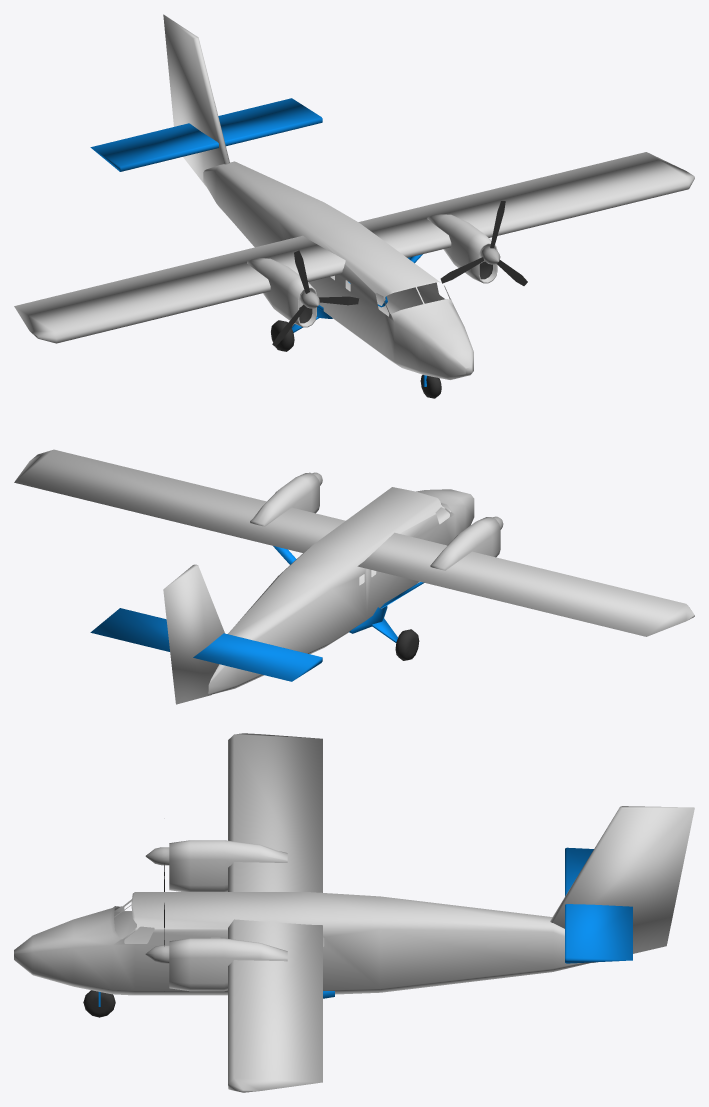
The model's file is twin-prop.glb.
3 views of the same model, one above another, from view 1: azimuth 30°, elevation 25°; view 2: azimuth 150°, elevation 25°; view 3: azimuth 270°, elevation 25° (orthographic). The views are drawn at different scales.
Parts seen in each view (by area): view 1: twin-prop; view 2: twin-prop; view 3: twin-prop.
Part boxes in pixels (x1,y1,x2,y2): twin-prop: (14, 14, 694, 398); twin-prop: (14, 449, 694, 704); twin-prop: (14, 733, 694, 1092).
Bounding box in the file's own units: 20 × 5.48 × 16.13.
